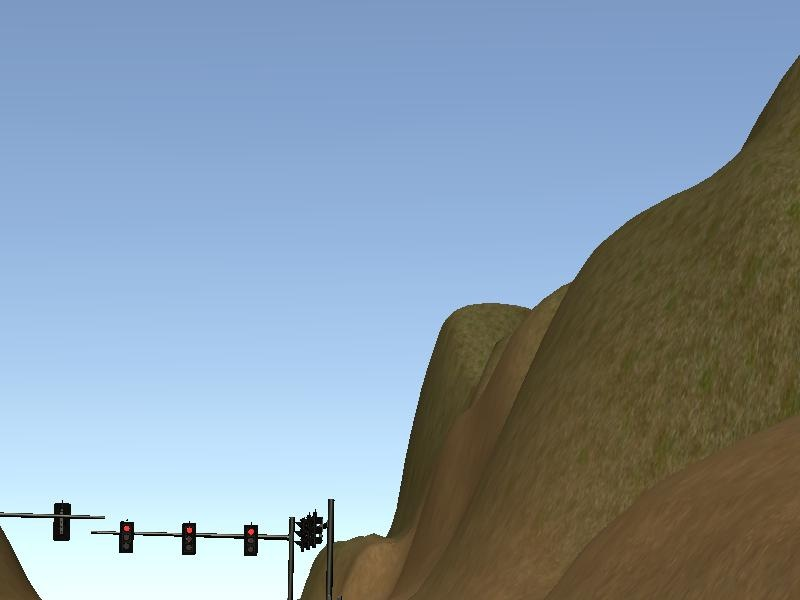red: (116, 517, 137, 559), (177, 520, 200, 556), (243, 520, 260, 561)
